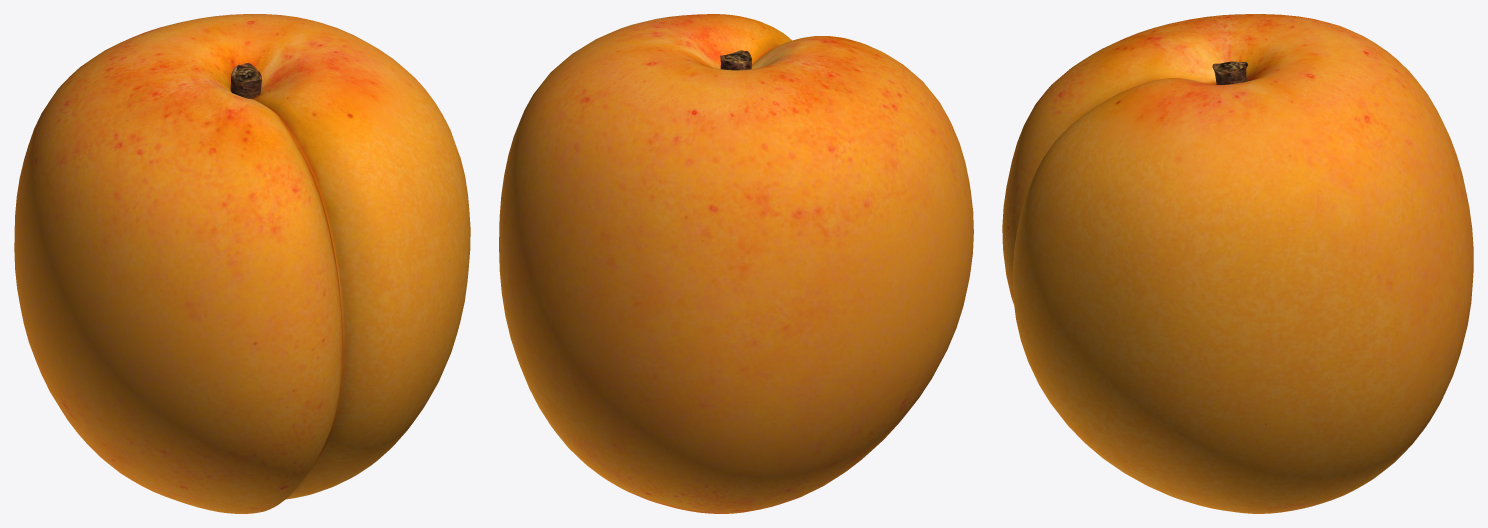
Rendered from peach.glb.
The picture shows the model from 3 angles, left to right: view 1: azimuth 30°, elevation 25°; view 2: azimuth 150°, elevation 25°; view 3: azimuth 270°, elevation 25°; orthographic projection.
Visible parts, largest first — view 1: orange; view 2: orange; view 3: orange.
Boxes of the visible parts, box(x1,y1,x2,y2) form: orange: box(14, 14, 470, 513); orange: box(499, 14, 973, 513); orange: box(1002, 14, 1473, 513).
Size of the model in its own units: 1.01 by 1.08 by 1.04.
Materials: 1 (1 with a texture image).
